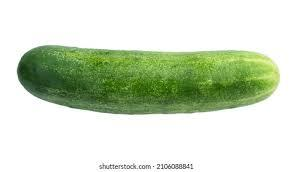non-mango: (16, 43, 280, 114)
